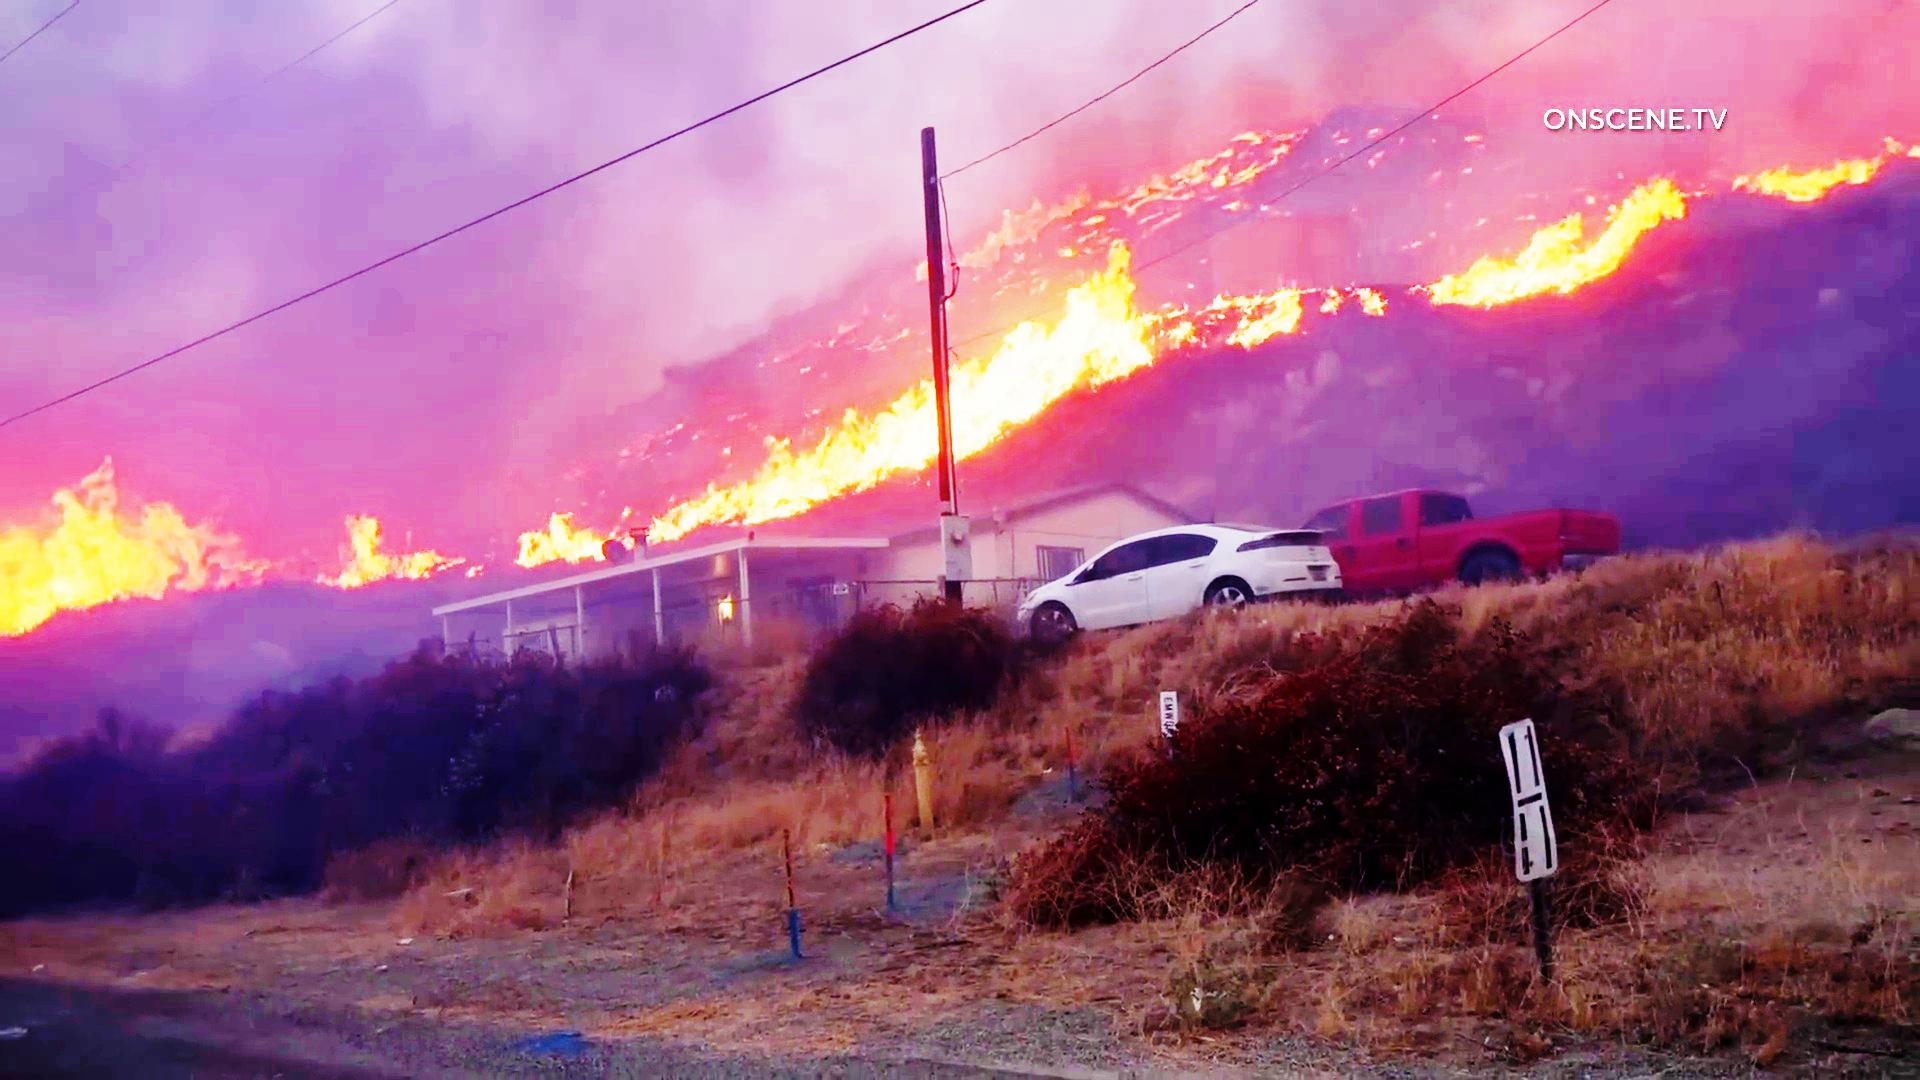fire: (0, 463, 223, 650), (1433, 173, 1695, 327), (930, 261, 1143, 447), (694, 418, 951, 518)
smoke: (0, 0, 641, 371)
